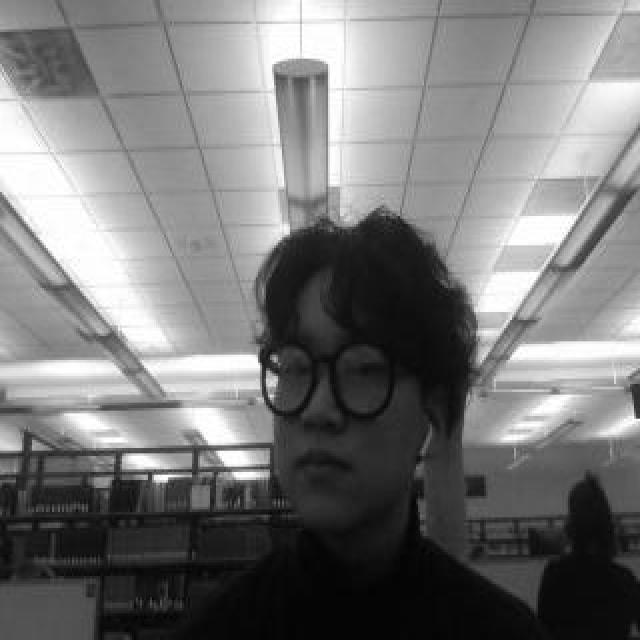Focused: (256, 282, 412, 508)
